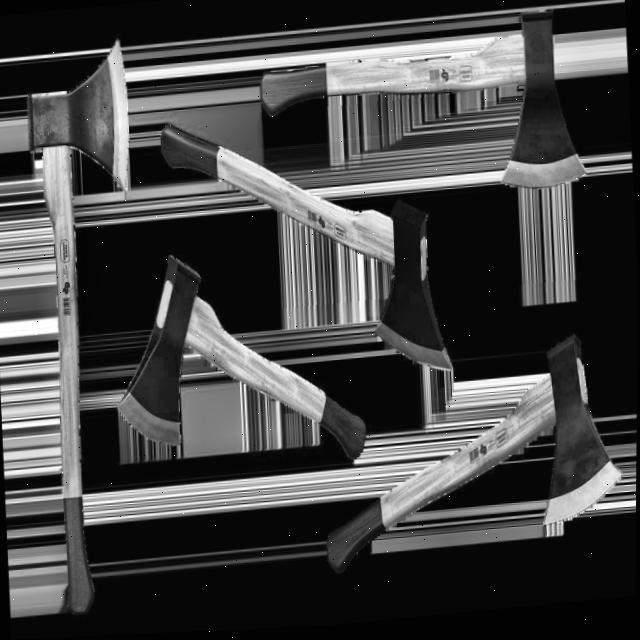kapak: (23, 33, 131, 622)
